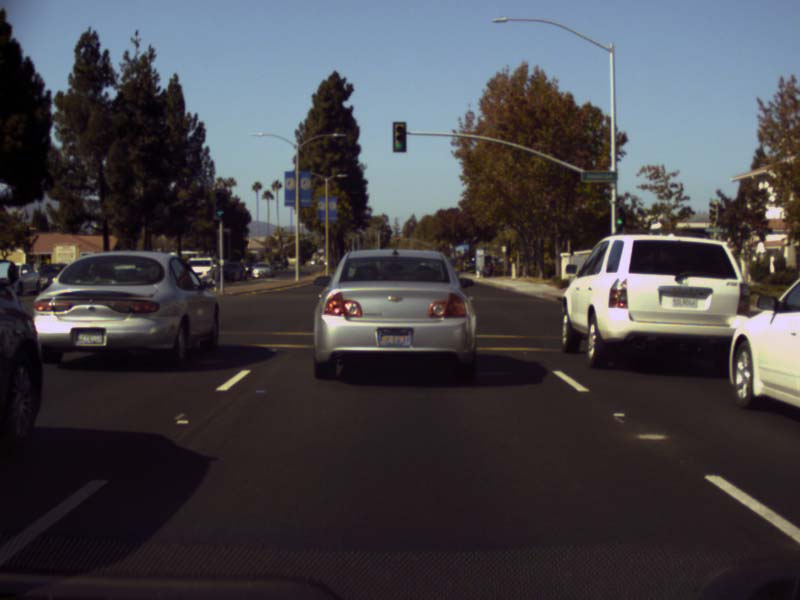Green: (213, 189, 228, 221), (392, 121, 406, 152), (615, 206, 625, 228)
